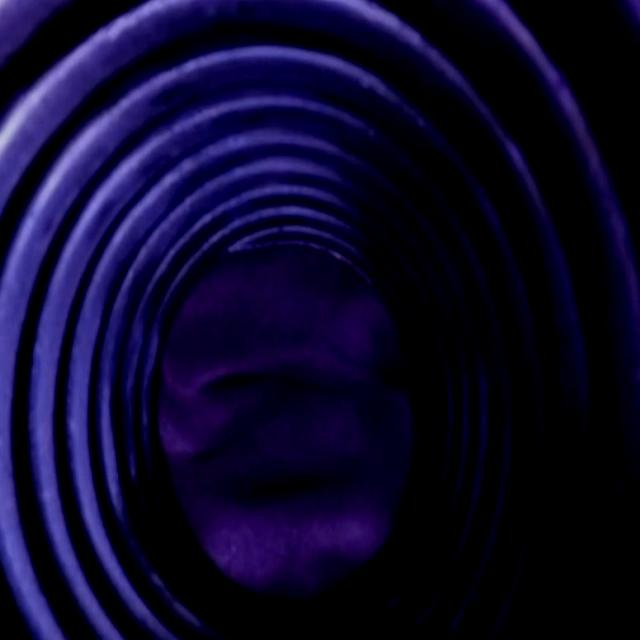block: (149, 246, 417, 601)
